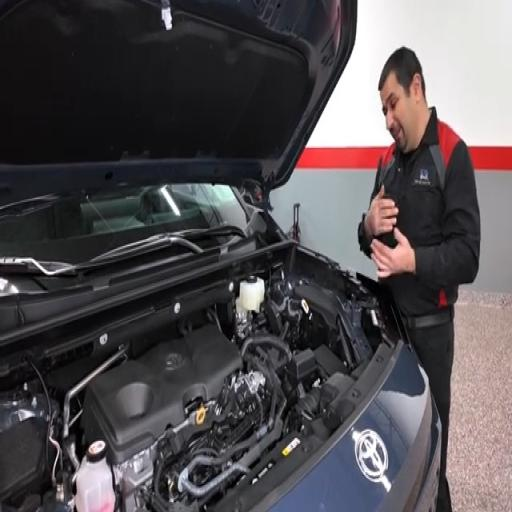bumper: (270, 346, 440, 511)
emblem: (356, 430, 387, 482)
hood: (0, 0, 356, 204)
windshield: (0, 184, 247, 264)
